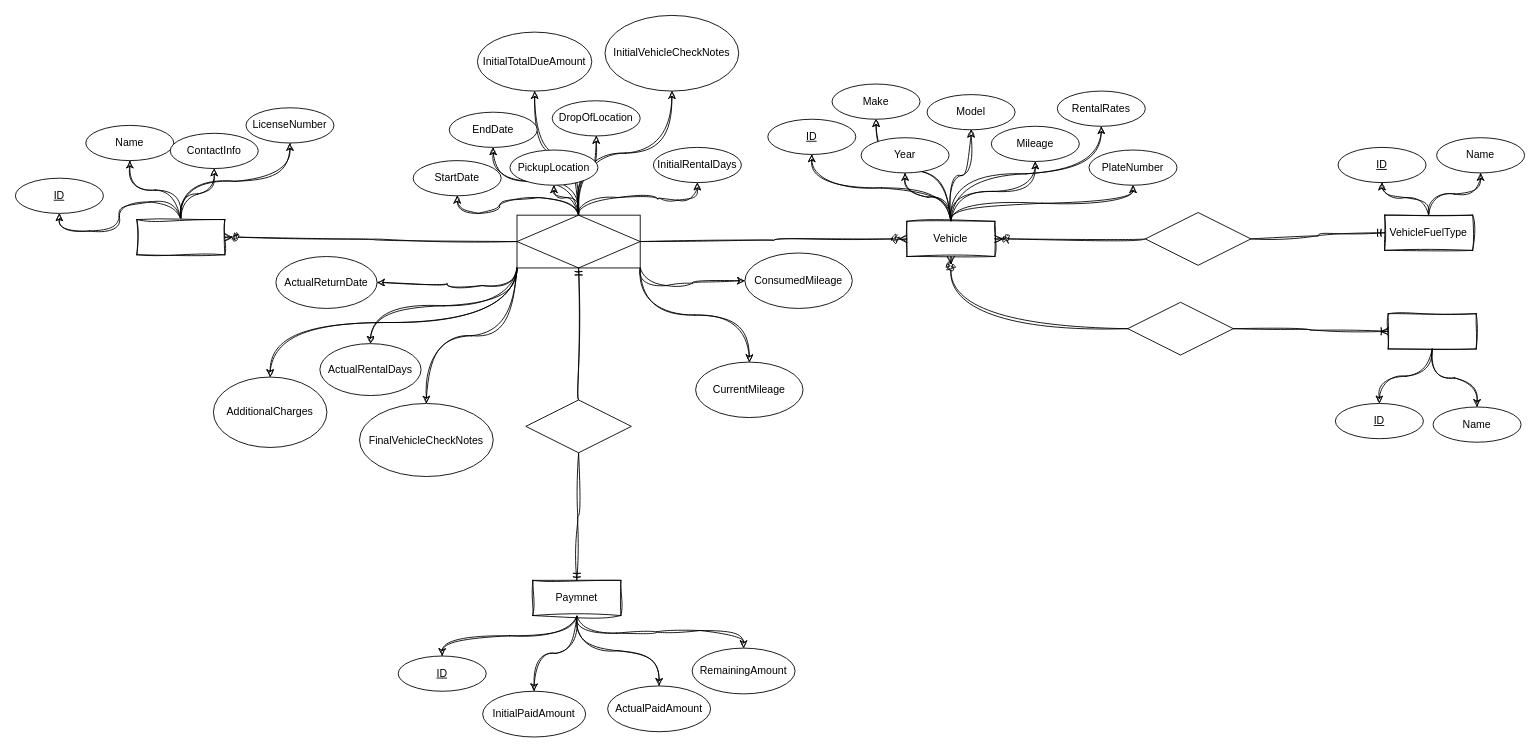
This 1540x752 diagram has some shape labels left out. Here are the shapes that lost their labels. From the top down, the centre of each, then its label:
the point at 180,237: Customer
the point at 578,241: Book
the point at 1197,238: HasType
the point at 1180,328: HasCategory
the point at 1431,331: VehicleCategory
the point at 578,426: BookPayment
